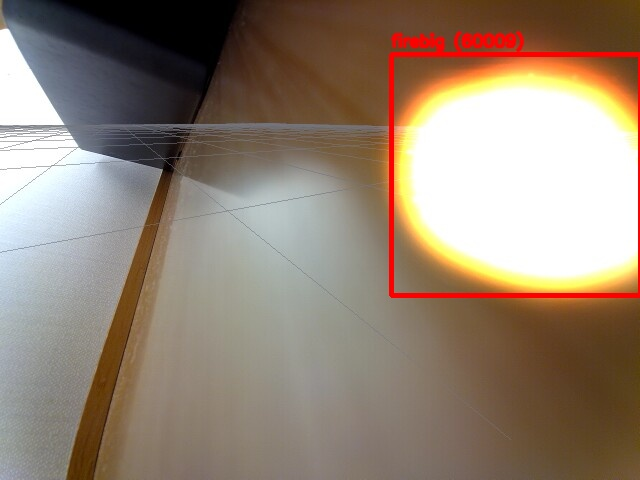firebig: (391, 54, 640, 295)
